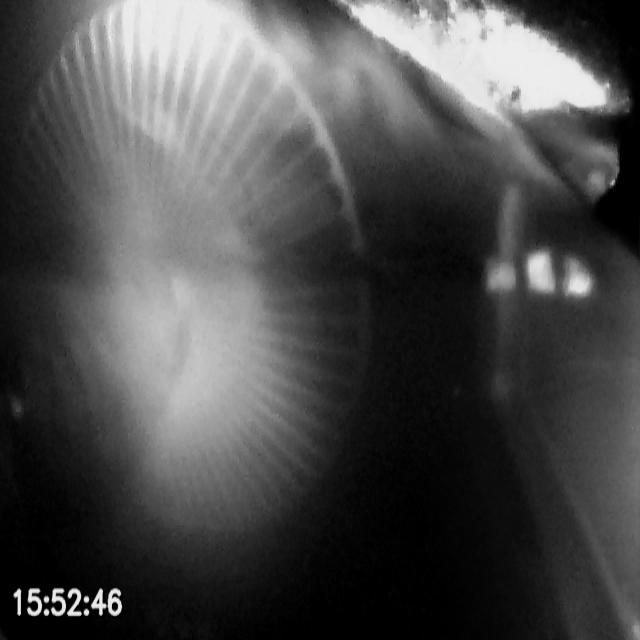white-dots: (484, 247, 594, 300)
